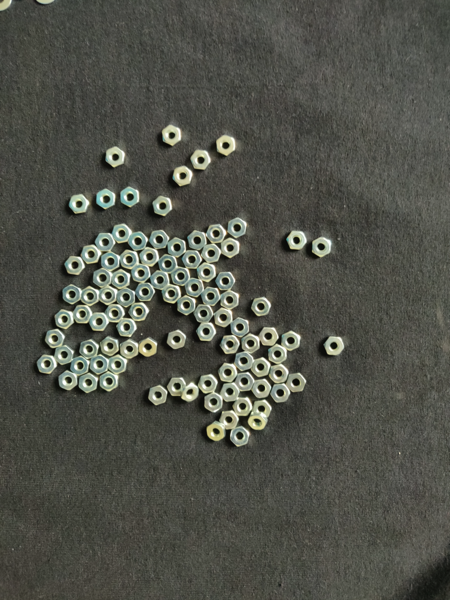nut: (104, 145, 127, 169), (161, 124, 183, 148), (171, 165, 193, 188), (68, 193, 90, 216), (215, 135, 237, 157), (190, 149, 212, 171), (311, 237, 333, 259), (161, 283, 182, 306), (152, 196, 173, 218), (95, 189, 116, 211), (181, 249, 203, 270), (157, 253, 178, 275), (281, 330, 302, 352), (78, 339, 100, 360), (36, 354, 57, 376), (57, 370, 79, 391), (323, 336, 345, 357), (120, 186, 140, 209), (285, 231, 308, 251), (206, 224, 227, 245), (220, 238, 241, 259), (187, 230, 208, 251), (201, 243, 222, 264), (251, 296, 272, 317), (127, 231, 148, 252), (139, 247, 160, 268), (258, 327, 279, 348), (95, 232, 116, 253), (80, 244, 101, 265), (99, 336, 120, 357), (270, 383, 291, 404), (251, 378, 272, 399), (227, 217, 247, 239), (197, 262, 217, 284), (111, 224, 133, 244), (194, 303, 214, 325), (149, 270, 171, 290), (135, 282, 157, 302), (116, 318, 138, 338), (215, 271, 236, 291), (184, 278, 205, 298), (200, 286, 221, 306), (220, 335, 241, 355), (196, 323, 217, 343), (130, 263, 151, 283), (167, 329, 187, 350), (89, 312, 110, 332), (64, 256, 85, 276), (62, 284, 82, 305), (54, 309, 74, 330), (45, 329, 66, 349), (70, 355, 90, 376), (99, 371, 119, 392), (251, 357, 271, 378), (234, 351, 254, 372), (197, 374, 218, 394), (148, 385, 168, 406), (230, 426, 250, 447), (177, 295, 196, 317), (120, 338, 139, 360), (167, 238, 187, 258), (149, 230, 169, 250), (214, 308, 234, 328), (230, 317, 250, 337), (268, 344, 288, 364), (241, 334, 261, 354), (112, 269, 132, 289), (54, 345, 74, 365), (287, 373, 307, 393), (235, 372, 255, 392), (204, 393, 224, 413), (206, 421, 226, 441), (219, 410, 239, 430), (233, 397, 253, 417), (252, 400, 272, 420), (128, 303, 149, 322), (117, 287, 136, 308), (73, 304, 92, 325), (139, 337, 158, 358), (79, 373, 98, 394), (90, 354, 109, 375), (109, 354, 128, 375), (218, 363, 237, 384), (220, 383, 241, 402), (166, 378, 187, 397), (247, 412, 268, 431), (220, 291, 240, 310), (101, 252, 120, 272), (93, 268, 112, 288), (99, 286, 118, 306), (105, 304, 125, 323), (269, 364, 288, 384), (171, 267, 190, 286), (120, 250, 139, 269), (81, 286, 99, 306), (181, 383, 199, 403)
